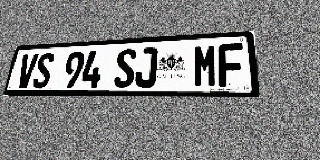4: (80, 50, 104, 88)
9: (62, 51, 86, 88)
F: (218, 43, 245, 87)
J: (134, 47, 158, 88)
M: (193, 44, 218, 87)
S: (113, 48, 137, 88), (31, 53, 55, 88)
V: (15, 54, 39, 88)
